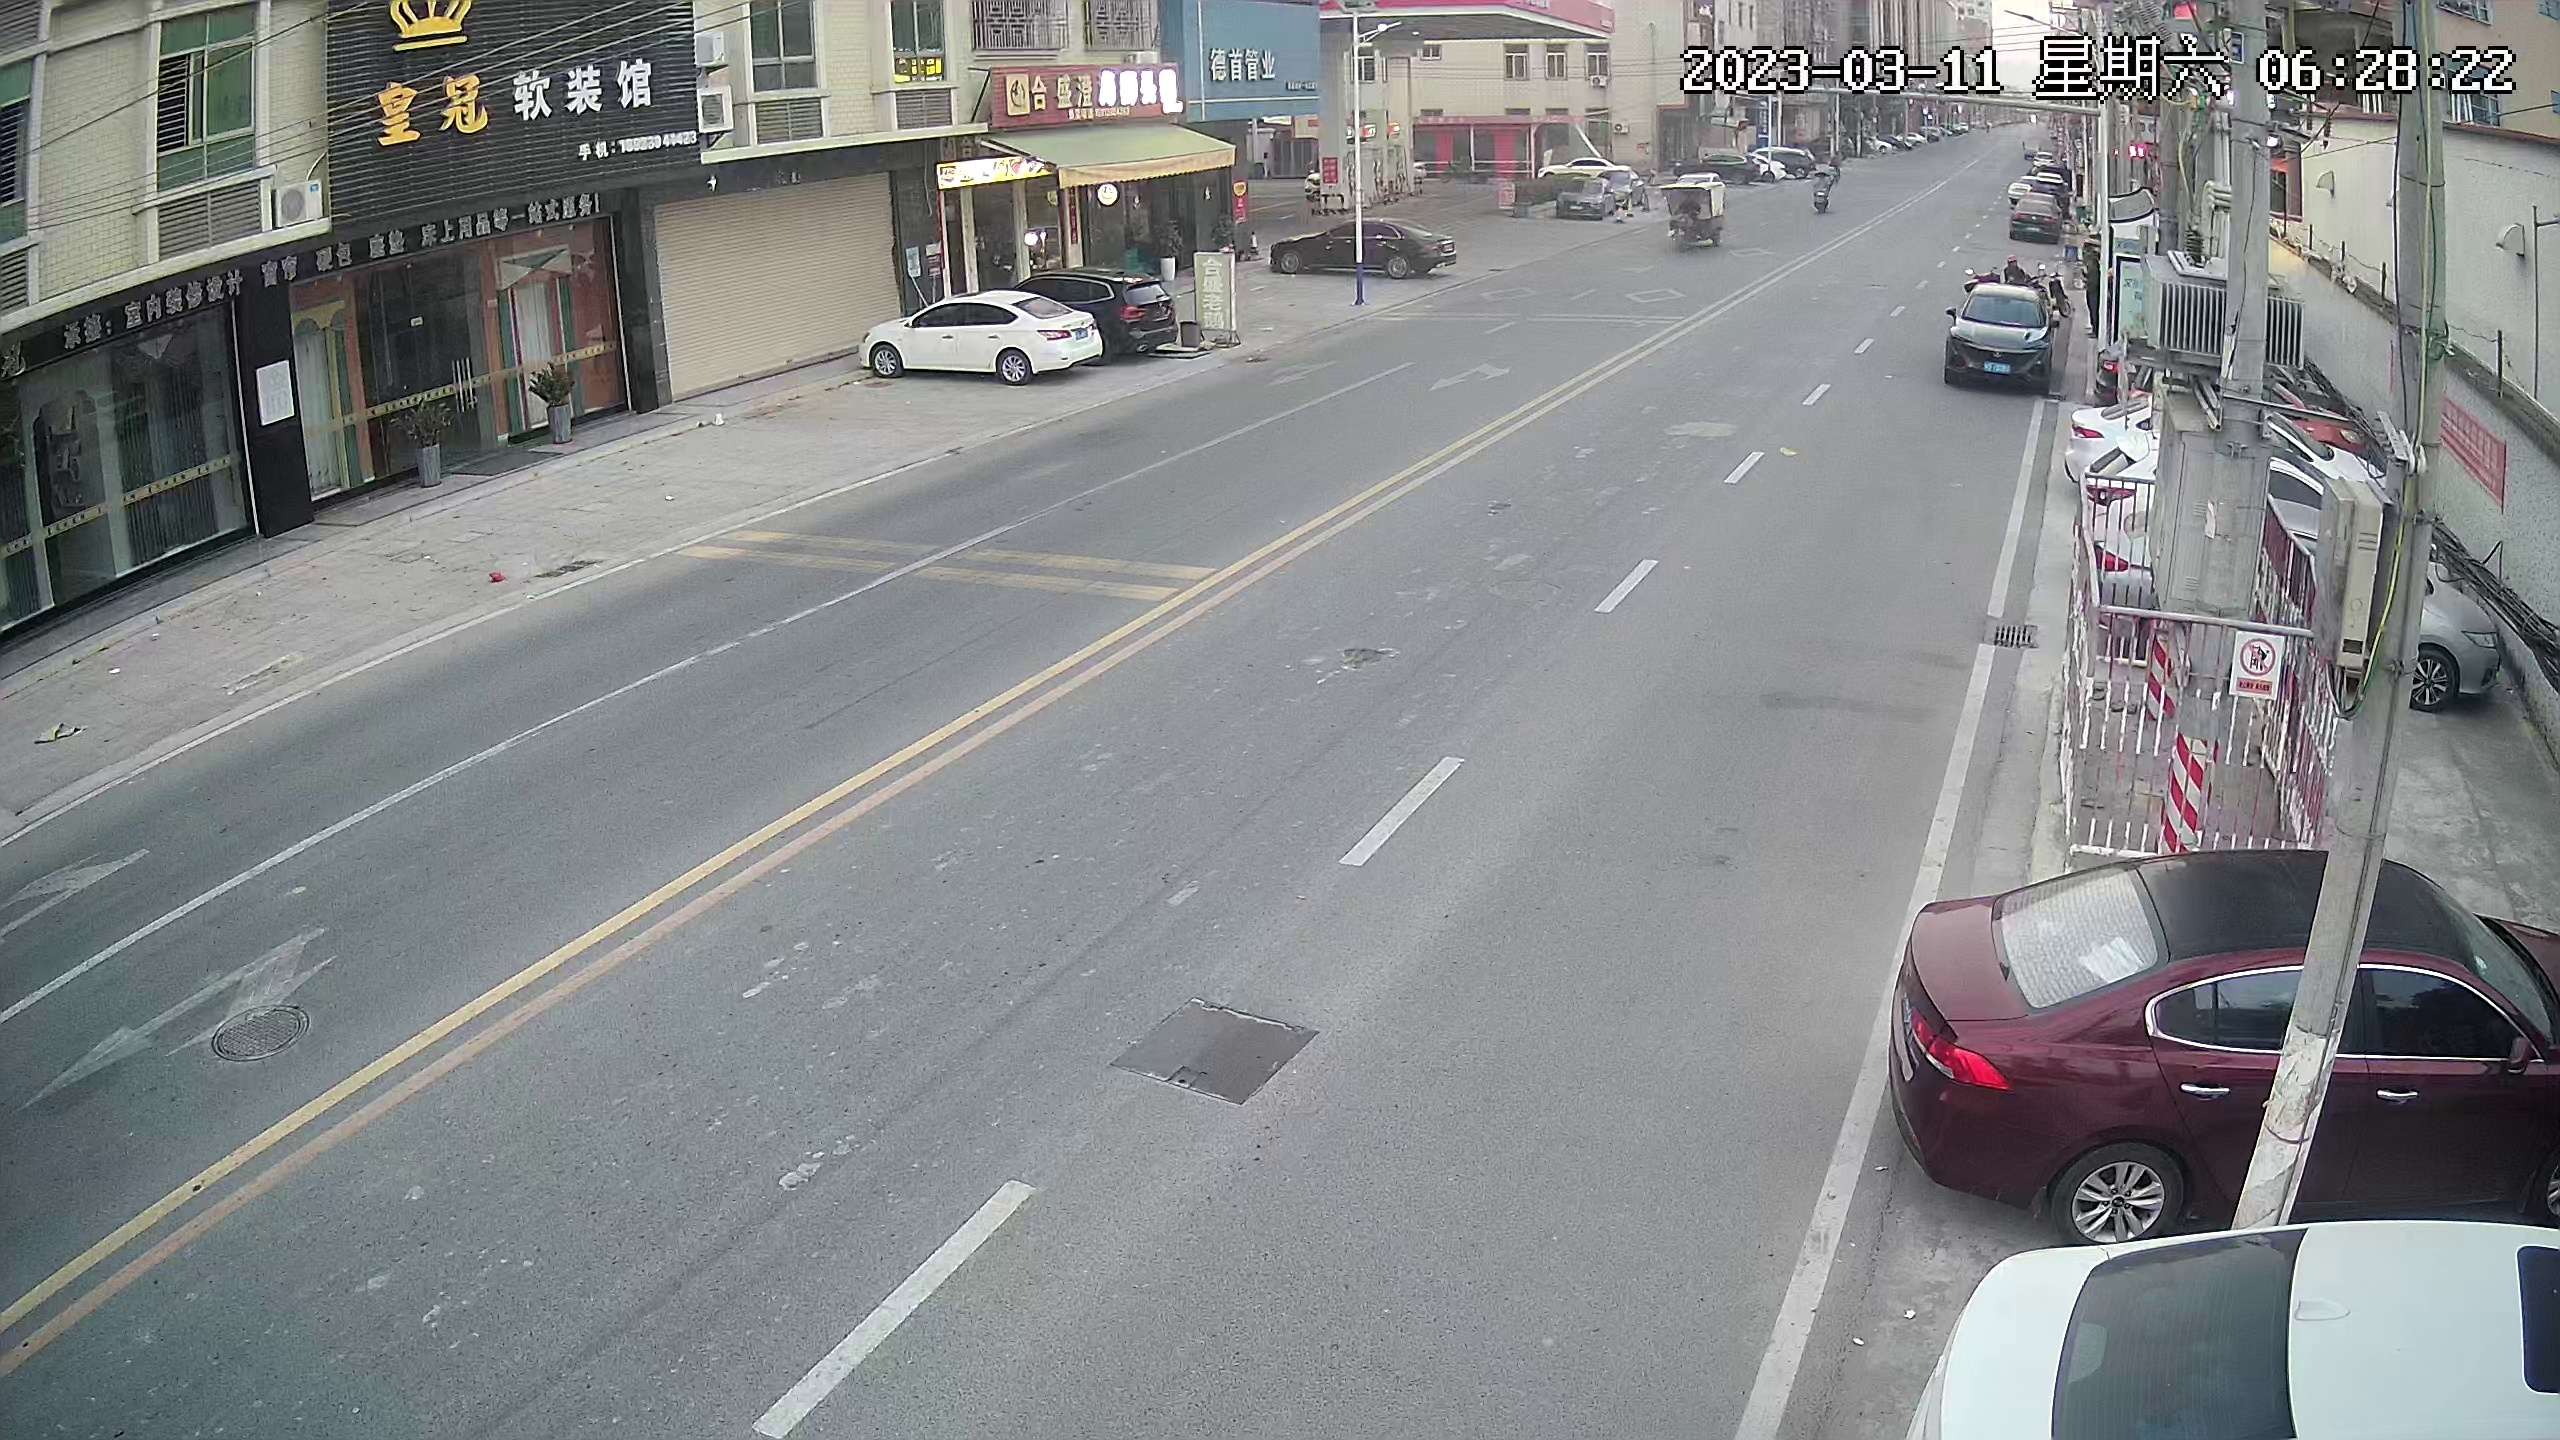motorcycle: (1809, 167, 1836, 220)
sedan: (1908, 849, 2560, 1197), (1943, 1215, 2560, 1440), (2085, 503, 2504, 695), (2108, 422, 2384, 522), (853, 297, 1095, 389), (1275, 220, 1452, 283), (1955, 283, 2052, 397), (2011, 188, 2062, 243), (1565, 176, 1618, 225), (1723, 148, 1771, 179), (2033, 151, 2057, 185)
suv: (1057, 264, 1178, 359)
tricycle: (1663, 174, 1730, 253)
